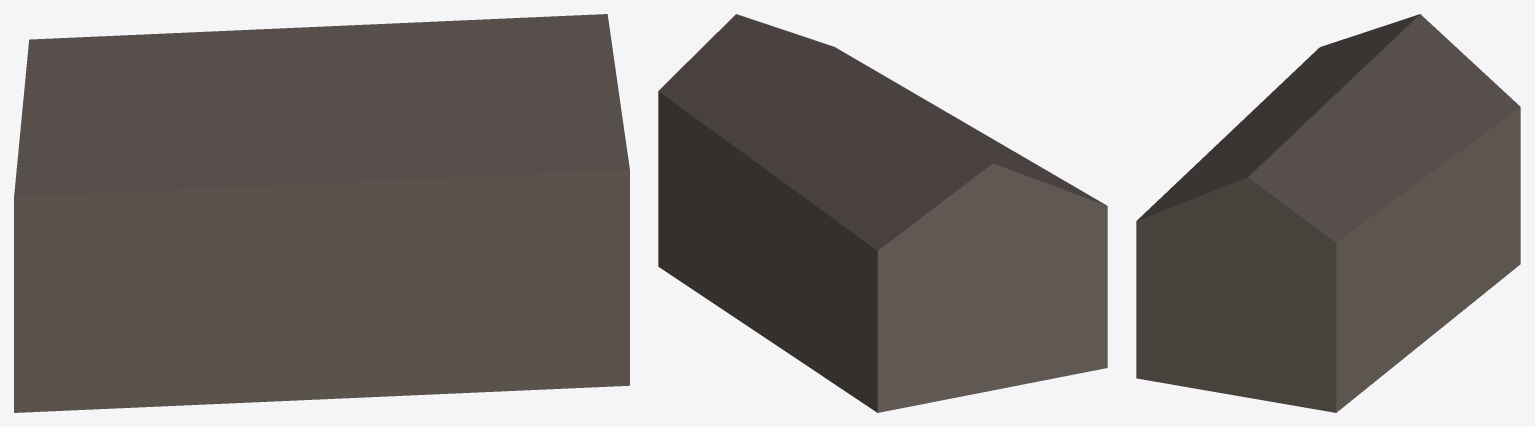
3 views of the same model, side by side, from view 1: azimuth 30°, elevation 25°; view 2: azimuth 150°, elevation 25°; view 3: azimuth 270°, elevation 25° (orthographic). The views are drawn at different scales.
Parts seen in each view (by area): view 1: HP-w1515071138; view 2: HP-w1515071138; view 3: HP-w1515071138.
Boxes of the visible parts, x1=… form: HP-w1515071138: x1=14, y1=14, x2=629, y2=412; HP-w1515071138: x1=658, y1=14, x2=1107, y2=412; HP-w1515071138: x1=1136, y1=14, x2=1520, y2=412.
Bounding box in the file's own units: 25.63 × 12.61 × 19.97.
